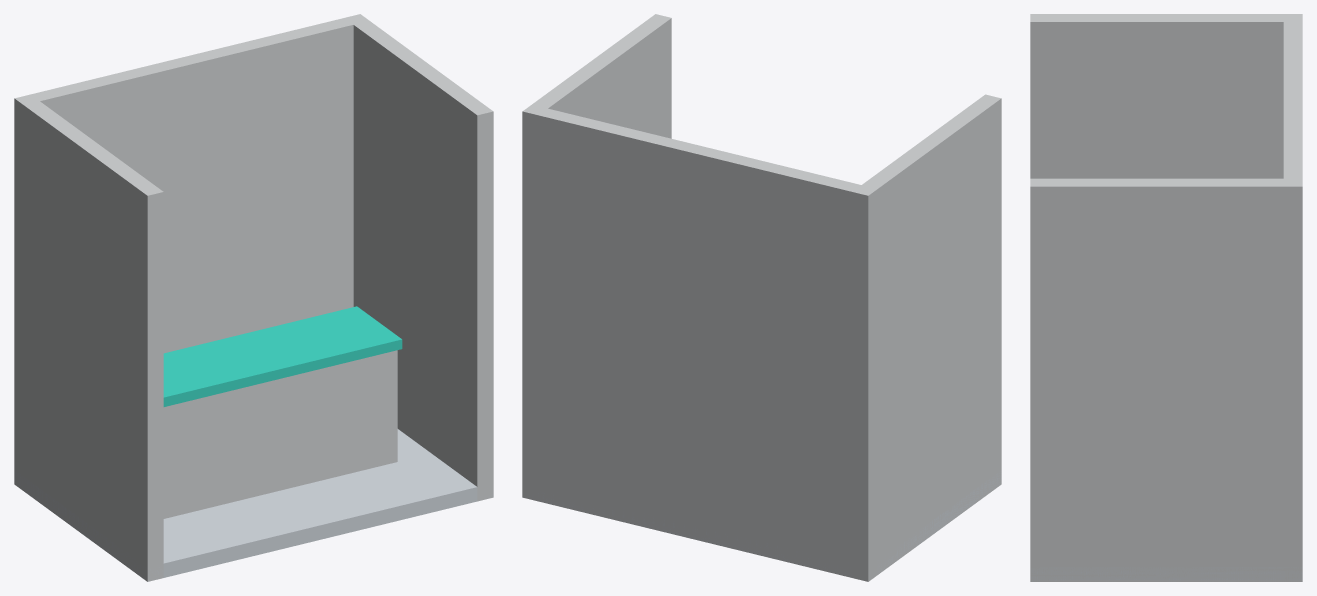
3 views of the same model, side by side, from view 1: azimuth 30°, elevation 25°; view 2: azimuth 150°, elevation 25°; view 3: azimuth 270°, elevation 25° (orthographic). The views are drawn at different scales.
Visible parts, largest first — view 1: Exhibition Booth Concept; view 2: Exhibition Booth Concept; view 3: Exhibition Booth Concept.
Boxes of the visible parts, left/top/right/bottom form: Exhibition Booth Concept: left=14, top=14, right=493, bottom=581; Exhibition Booth Concept: left=522, top=14, right=1001, bottom=581; Exhibition Booth Concept: left=1030, top=14, right=1302, bottom=581.
Bounding box in the file's own units: 3 × 3.2 × 2.
